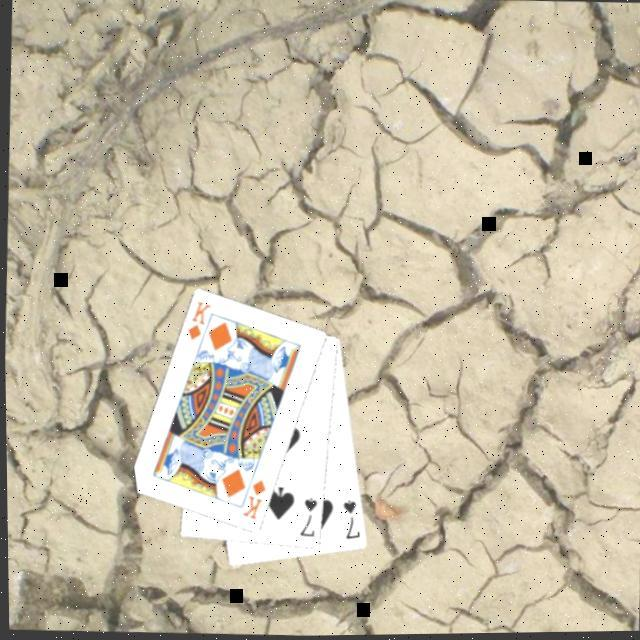7S: (337, 497, 364, 544), (295, 495, 320, 542)
KD: (182, 298, 215, 345), (237, 477, 269, 524)
